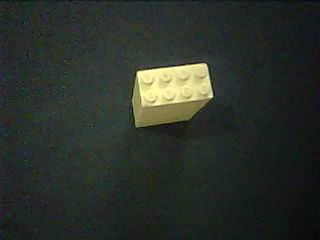lego: (129, 62, 213, 129)
